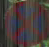No Stopping: (4, 0, 48, 44)
